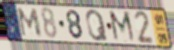2: (133, 10, 155, 45)
8: (40, 6, 59, 41), (66, 9, 84, 41)
M: (108, 10, 138, 45), (17, 7, 43, 38)
Q: (84, 9, 110, 43)
